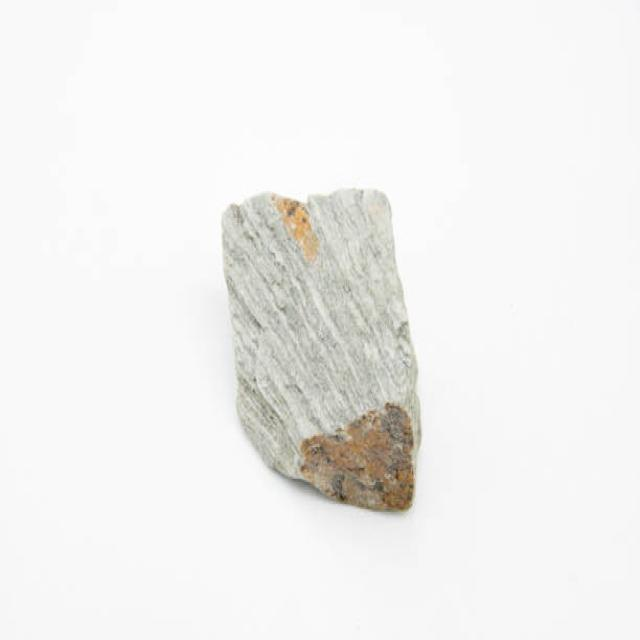Metamorphic: (206, 185, 436, 512)
